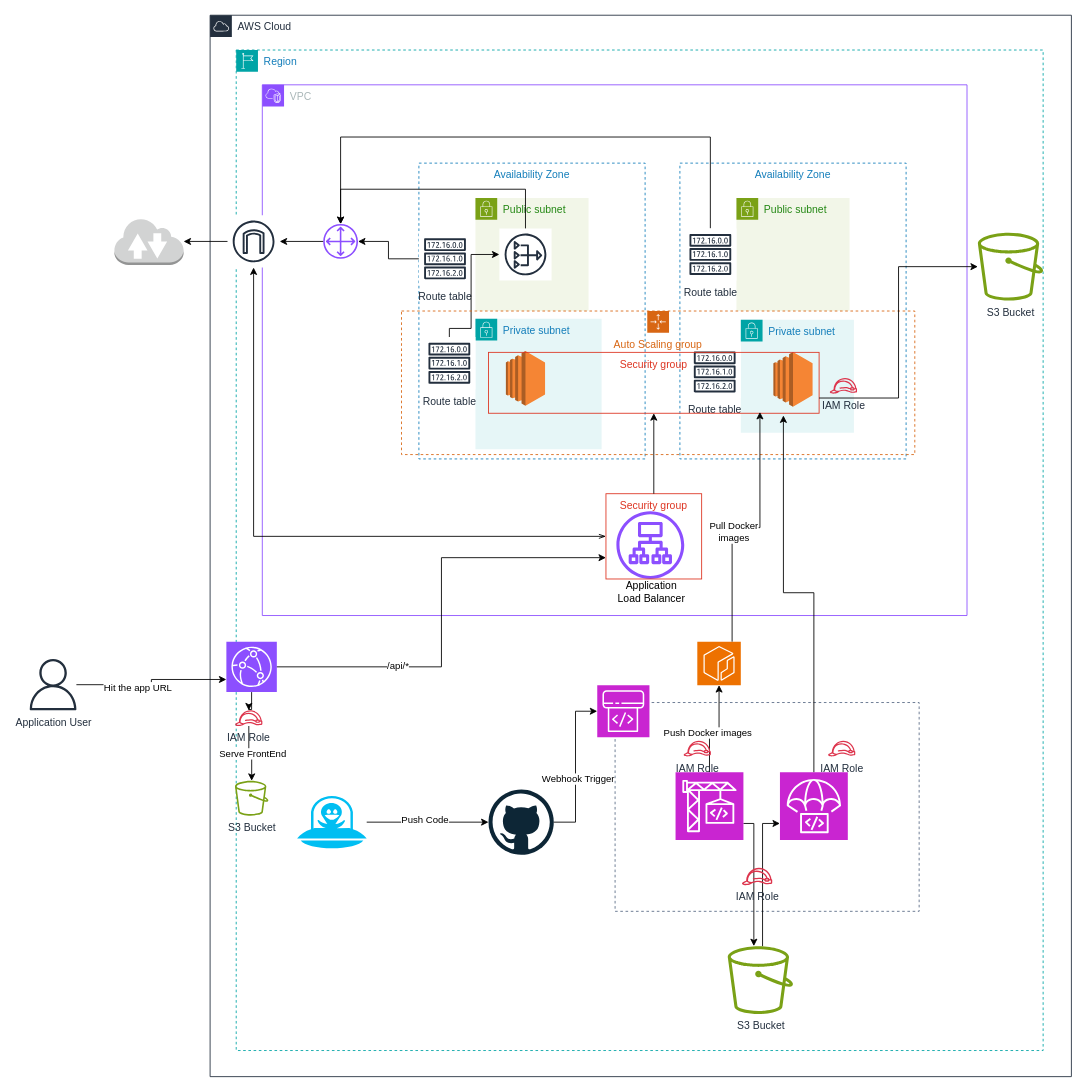
This 1087x1092 diagram has some shape labels left out. The shapes that lost their labels are listed below. From the top down, each one's centre as x and y in pixels, then its label:
the point at 253,241: Internet gateway
the point at 340,241: Router
the point at 525,254: NAT gateway
the point at 251,666: CloudFront
the point at 718,663: ECR
the point at 622,710: CodePipeline
the point at 331,822: Developer
the point at 709,805: CodeBuild
the point at 813,805: CodeDeploy
